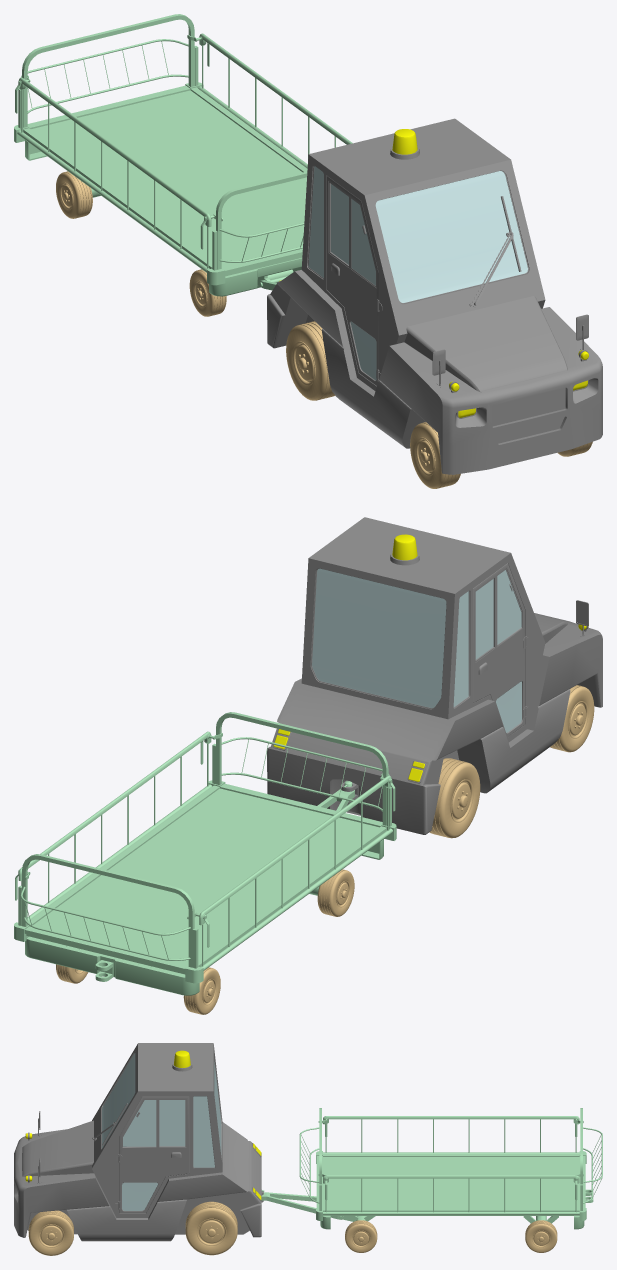
Rendered from Luggage_driver.fbx.
3 views of the same model, one above another, from view 1: azimuth 30°, elevation 25°; view 2: azimuth 150°, elevation 25°; view 3: azimuth 270°, elevation 25° (orthographic). The views are drawn at different scales.
Parts seen in each view (by area): view 1: Luggage_Driver, Luggage_Cart, Door_R, Side_2, Rear_Wheels, Side_1, Wheel_R, Wheel_2, Window_R, Wheel_1; view 2: Luggage_Driver, Luggage_Cart, Door_R, Side_2, Rear_Wheels, Side_1, Wheel_R, Wheel_2, Wheel_1, Window_R; view 3: Luggage_Driver, Luggage_Cart, Door_L, Side_1, Rear_Wheels, Side_2, Wheel_L, Window_L, Wheel_1, Wheel_2, Lever.
Boxes of the visible parts, box(x1,y1,x2,y2) form: Luggage_Driver: box(267, 118, 602, 474); Luggage_Cart: box(14, 14, 307, 296); Door_R: box(326, 176, 379, 385); Side_2: box(17, 77, 211, 272); Rear_Wheels: box(286, 321, 335, 400); Side_1: box(198, 33, 352, 168); Wheel_R: box(410, 422, 460, 488); Wheel_2: box(56, 171, 92, 218); Window_R: box(351, 199, 375, 285); Wheel_1: box(189, 269, 226, 316); Luggage_Driver: box(267, 517, 602, 834); Luggage_Cart: box(14, 712, 396, 995); Door_R: box(473, 563, 526, 737); Side_2: box(199, 775, 392, 970); Rear_Wheels: box(429, 758, 480, 838); Side_1: box(18, 731, 212, 921); Wheel_R: box(550, 685, 594, 752); Wheel_2: box(56, 964, 220, 1014); Wheel_1: box(317, 869, 354, 916); Window_R: box(497, 570, 521, 644); Luggage_Driver: box(14, 1043, 263, 1241); Luggage_Cart: box(299, 1108, 602, 1229); Door_L: box(118, 1096, 189, 1213); Side_1: box(323, 1175, 579, 1215); Rear_Wheels: box(185, 1201, 237, 1255); Side_2: box(323, 1116, 579, 1153); Wheel_L: box(28, 1210, 73, 1255); Window_L: box(123, 1100, 156, 1146); Wheel_1: box(345, 1220, 377, 1252); Wheel_2: box(525, 1220, 557, 1252); Lever: box(261, 1190, 343, 1219).
Size of the model in its own units: 184 by 242 by 723.
